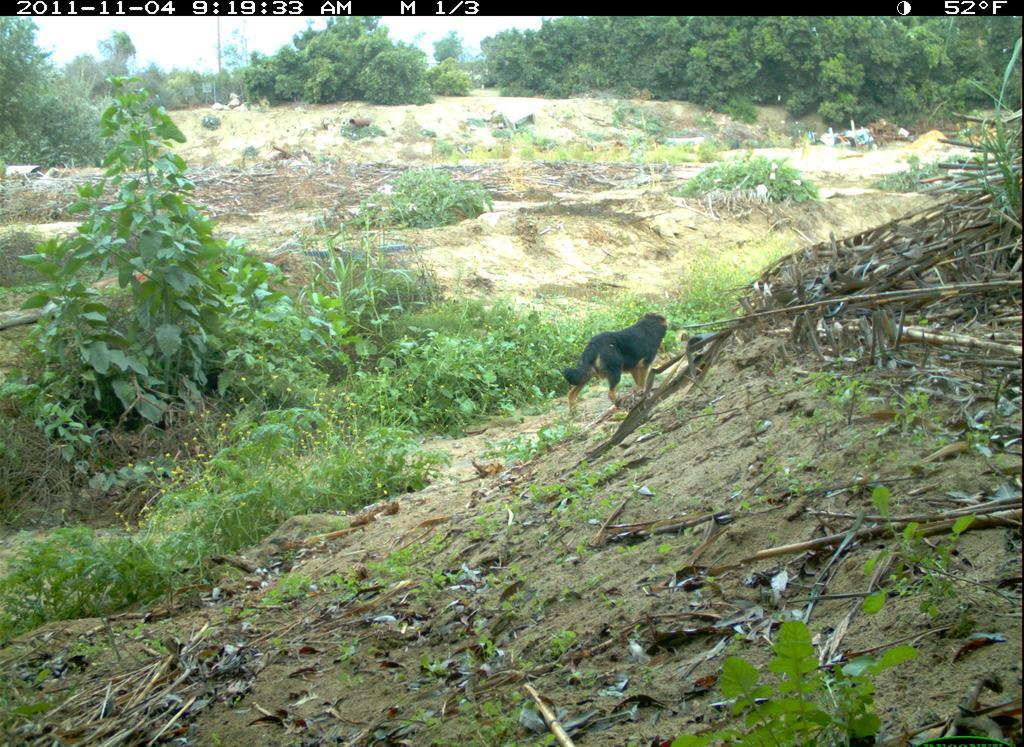dog: (553, 300, 692, 445)
